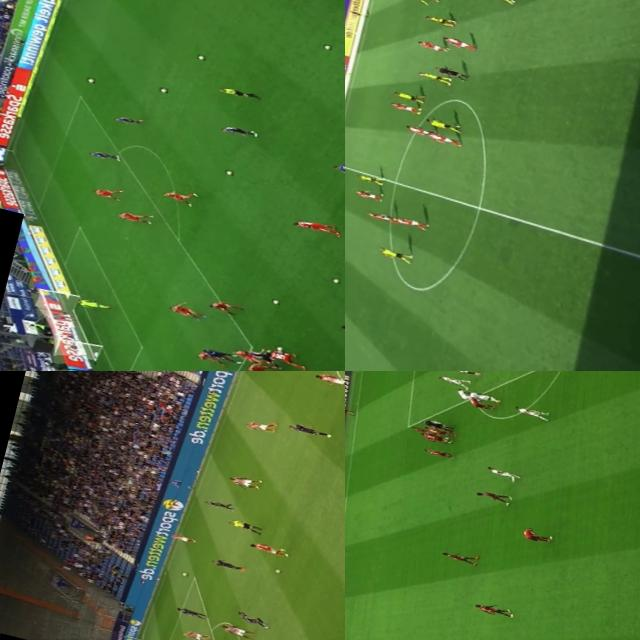ball: (194, 52, 210, 62), (329, 276, 344, 286), (222, 169, 236, 178), (267, 298, 282, 306), (320, 42, 331, 51), (273, 346, 284, 354), (85, 76, 94, 85), (156, 86, 168, 92), (270, 568, 281, 574), (440, 434, 451, 440), (179, 572, 186, 576)
player: (290, 216, 340, 237), (470, 598, 514, 620), (515, 523, 554, 547), (265, 348, 305, 371), (372, 245, 418, 264), (436, 547, 478, 567), (471, 486, 512, 506), (112, 208, 154, 226), (248, 540, 290, 558), (346, 184, 384, 203), (168, 302, 204, 322), (234, 610, 270, 630), (288, 423, 332, 439), (423, 115, 460, 134), (388, 215, 429, 232), (479, 464, 520, 481), (440, 34, 478, 52), (432, 372, 470, 390), (311, 371, 345, 390), (462, 388, 502, 404), (218, 622, 253, 640), (414, 68, 451, 85), (203, 348, 242, 364), (244, 348, 278, 366), (388, 87, 422, 105), (424, 132, 462, 148), (218, 124, 258, 139), (508, 404, 548, 419), (160, 188, 193, 206), (362, 210, 399, 226), (90, 185, 124, 202), (228, 474, 261, 491), (87, 148, 122, 164), (387, 99, 422, 115), (413, 38, 448, 54), (420, 12, 454, 28), (210, 557, 242, 573), (244, 359, 285, 371), (75, 298, 110, 312), (416, 430, 451, 444), (206, 300, 236, 316), (228, 348, 258, 364), (422, 425, 456, 439), (351, 171, 382, 186), (243, 418, 274, 433), (466, 396, 495, 412), (421, 446, 454, 460), (194, 352, 226, 366), (174, 606, 206, 620), (450, 386, 478, 402), (112, 114, 143, 128), (402, 122, 433, 136), (203, 498, 232, 512), (408, 424, 439, 436), (330, 162, 345, 183), (168, 532, 194, 544), (181, 629, 208, 640), (441, 371, 479, 378), (476, 0, 518, 5), (401, 0, 428, 4)
